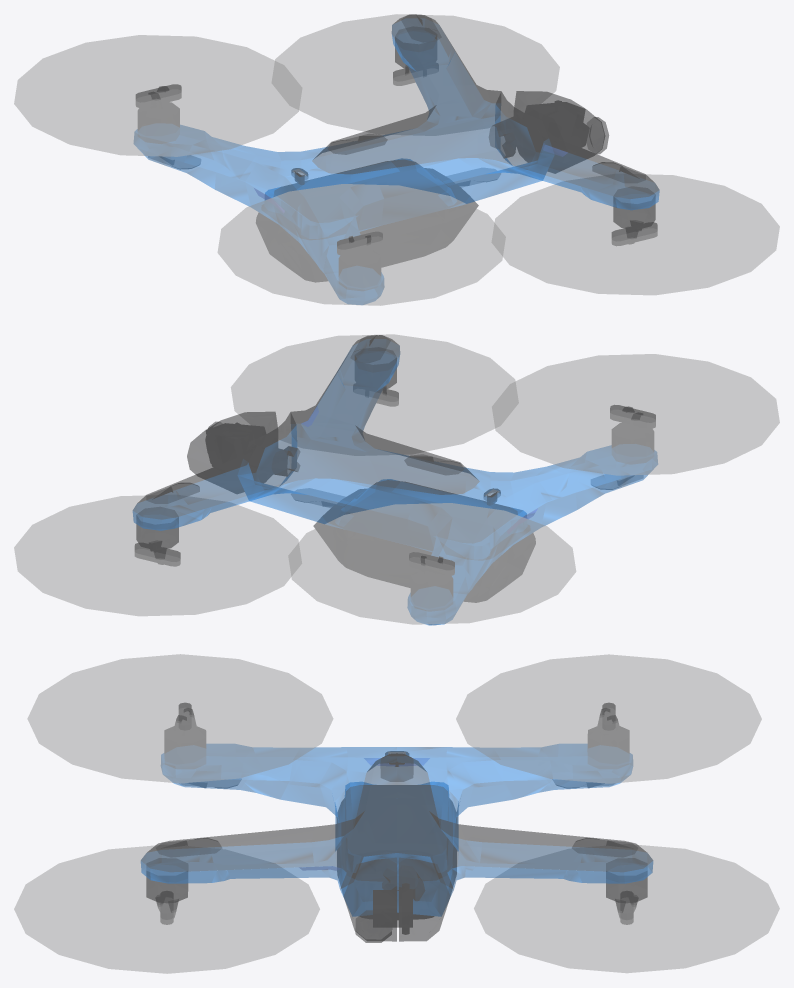
Rendered from skydio_2_1000_poly.obj.
3 renders of one model, top to bottom at view 1: azimuth 30°, elevation 25°; view 2: azimuth 150°, elevation 25°; view 3: azimuth 270°, elevation 25°, orthographic. The views are drawn at different scales.
Parts seen in each view (by area): view 1: 009_Cylinder026_-_baked_1, 002_CirclePlane_1, 000_CirclePlane, 003_CirclePlane_2, 001_CirclePlane_3, 008_Cylinder026_-_baked, 004_Box008_-_baked, 012_Object002_-_baked, 013_Cylinder036_-_baked, 010_Cylinder029_-_baked, 017_Cylinder040_-_baked, 011_Cylinder030_-_baked (+5 smaller); view 2: 009_Cylinder026_-_baked_1, 000_CirclePlane, 002_CirclePlane_1, 001_CirclePlane_3, 003_CirclePlane_2, 008_Cylinder026_-_baked, 004_Box008_-_baked, 018_Object003_-_baked, 013_Cylinder036_-_baked, 010_Cylinder029_-_baked, 017_Cylinder040_-_baked, 011_Cylinder030_-_baked (+5 smaller); view 3: 009_Cylinder026_-_baked_1, 000_CirclePlane, 002_CirclePlane_1, 003_CirclePlane_2, 001_CirclePlane_3, 008_Cylinder026_-_baked, 004_Box008_-_baked, 012_Object002_-_baked, 018_Object003_-_baked, 013_Cylinder036_-_baked, 017_Cylinder040_-_baked, 010_Cylinder029_-_baked (+5 smaller).
Boxes of the visible parts, <box> form: 009_Cylinder026_-_baked_1: <box>134,21,659,304</box>; 002_CirclePlane_1: <box>217,184,505,305</box>; 000_CirclePlane: <box>14,35,302,156</box>; 003_CirclePlane_2: <box>492,174,779,294</box>; 001_CirclePlane_3: <box>272,14,559,135</box>; 008_Cylinder026_-_baked: <box>312,14,658,198</box>; 004_Box008_-_baked: <box>256,160,478,282</box>; 012_Object002_-_baked: <box>523,102,604,173</box>; 013_Cylinder036_-_baked: <box>395,29,655,243</box>; 010_Cylinder029_-_baked: <box>138,86,380,276</box>; 017_Cylinder040_-_baked: <box>401,14,645,182</box>; 011_Cylinder030_-_baked: <box>136,84,382,255</box>; 009_Cylinder026_-_baked_1: <box>133,342,657,625</box>; 000_CirclePlane: <box>288,503,575,624</box>; 002_CirclePlane_1: <box>492,354,779,475</box>; 001_CirclePlane_3: <box>14,495,301,615</box>; 003_CirclePlane_2: <box>231,334,518,455</box>; 008_Cylinder026_-_baked: <box>133,335,479,519</box>; 004_Box008_-_baked: <box>313,480,535,602</box>; 018_Object003_-_baked: <box>187,423,268,493</box>; 013_Cylinder036_-_baked: <box>136,349,396,564</box>; 010_Cylinder029_-_baked: <box>411,406,653,596</box>; 017_Cylinder040_-_baked: <box>146,335,390,503</box>; 011_Cylinder030_-_baked: <box>409,405,655,575</box>; 009_Cylinder026_-_baked_1: <box>141,744,652,916</box>; 000_CirclePlane: <box>456,654,761,783</box>; 002_CirclePlane_1: <box>27,654,333,783</box>; 003_CirclePlane_2: <box>14,845,319,973</box>; 001_CirclePlane_3: <box>474,845,779,972</box>; 008_Cylinder026_-_baked: <box>141,753,652,888</box>; 004_Box008_-_baked: <box>336,785,457,919</box>; 012_Object002_-_baked: <box>343,858,396,941</box>; 018_Object003_-_baked: <box>399,858,450,941</box>; 013_Cylinder036_-_baked: <box>146,858,647,917</box>; 017_Cylinder040_-_baked: <box>156,838,637,857</box>; 010_Cylinder029_-_baked: <box>164,708,629,753</box>.
Bounding box in the file's own units: 133 × 29.76 × 161.
